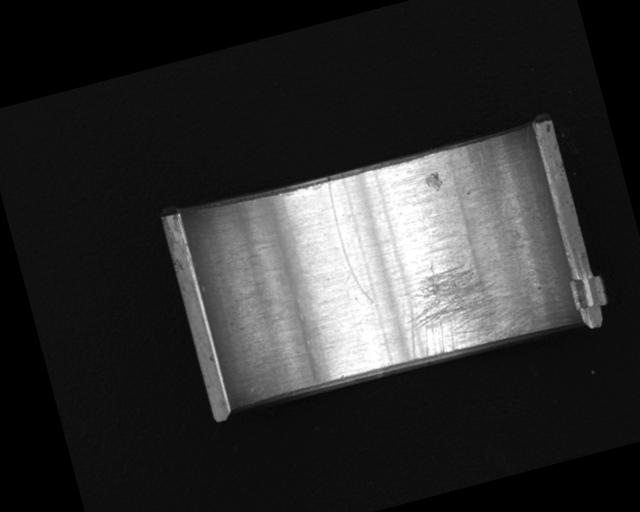bruise: (422, 169, 443, 193)
nick: (323, 175, 375, 309)
scratch: (385, 241, 526, 364)
